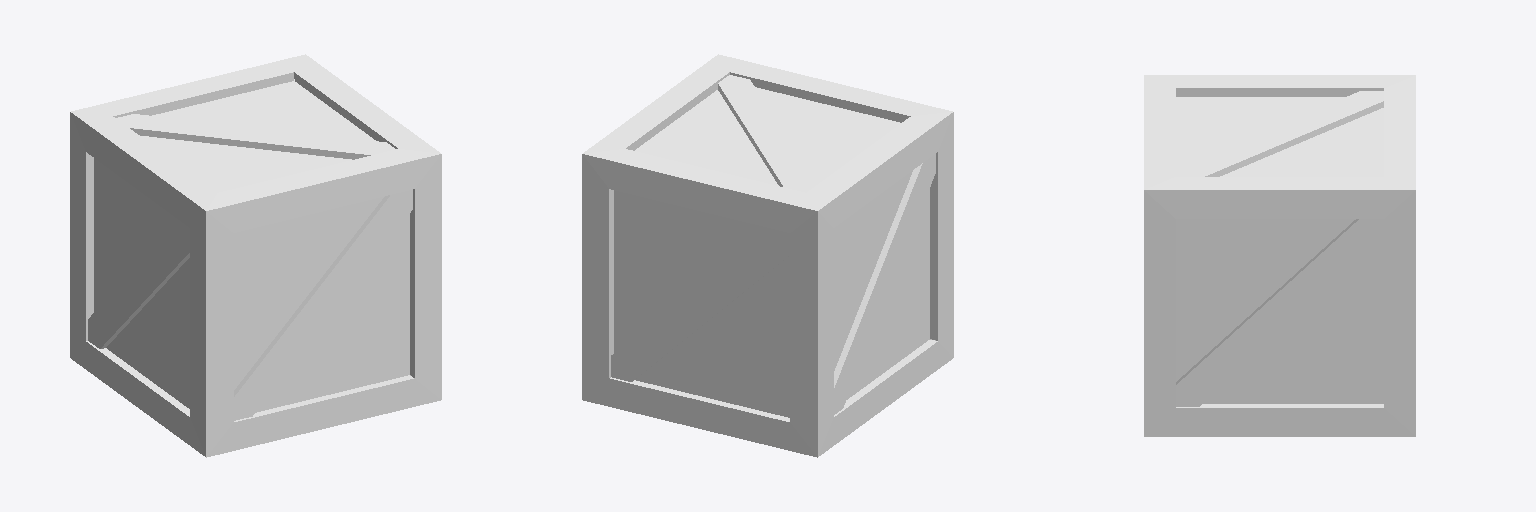
The model's file is crate.obj.
3 views of the same model, side by side, from view 1: azimuth 30°, elevation 25°; view 2: azimuth 150°, elevation 25°; view 3: azimuth 270°, elevation 25° (orthographic).
Parts seen in each view (by area): view 1: CrateMesh_standardSurface2; view 2: CrateMesh_standardSurface2; view 3: CrateMesh_standardSurface2.
Boxes of the visible parts, <box> form: CrateMesh_standardSurface2: <box>70,54,441,457</box>; CrateMesh_standardSurface2: <box>582,54,953,457</box>; CrateMesh_standardSurface2: <box>1144,75,1415,436</box>.
Size of the model in its own units: 1 by 1 by 1.